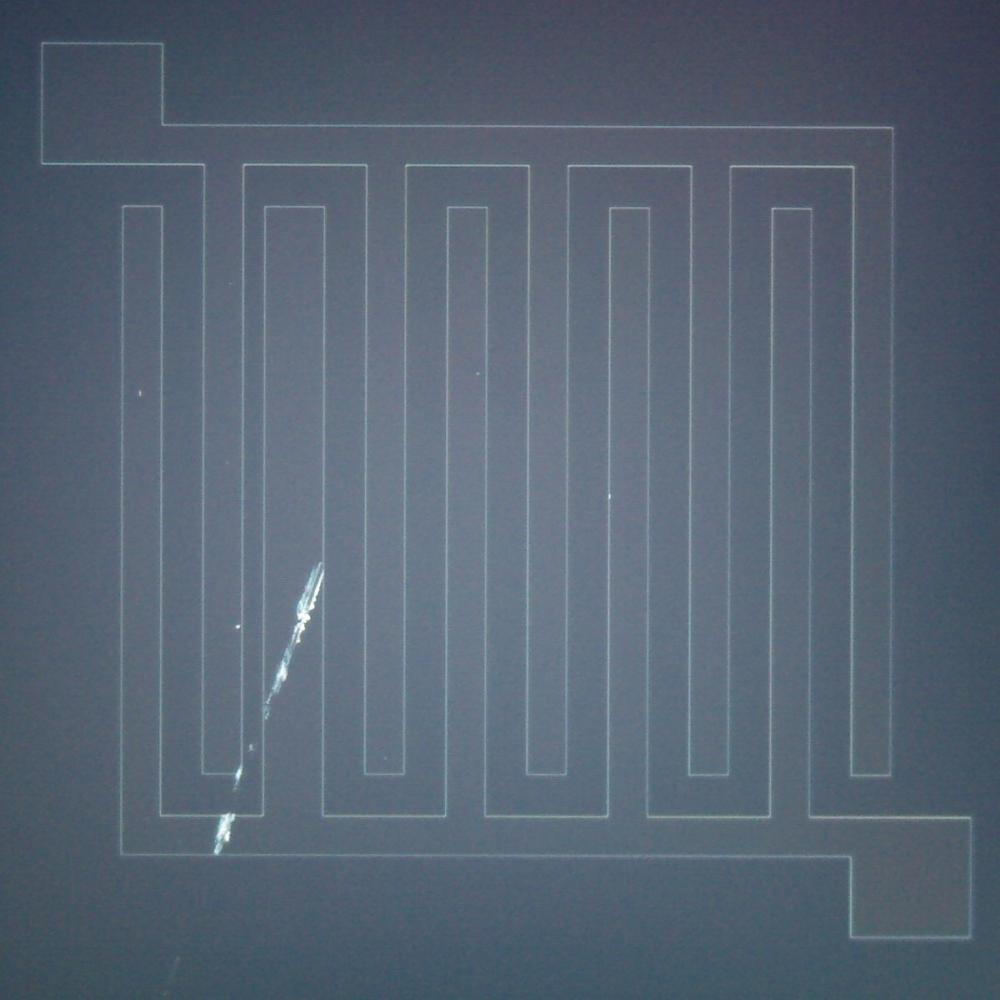dot: (248, 744, 254, 751), (138, 390, 144, 396), (235, 624, 240, 630), (476, 371, 480, 375)
straight: (207, 818, 242, 854), (272, 633, 308, 668), (286, 600, 322, 633), (265, 669, 300, 702), (290, 568, 322, 599)
